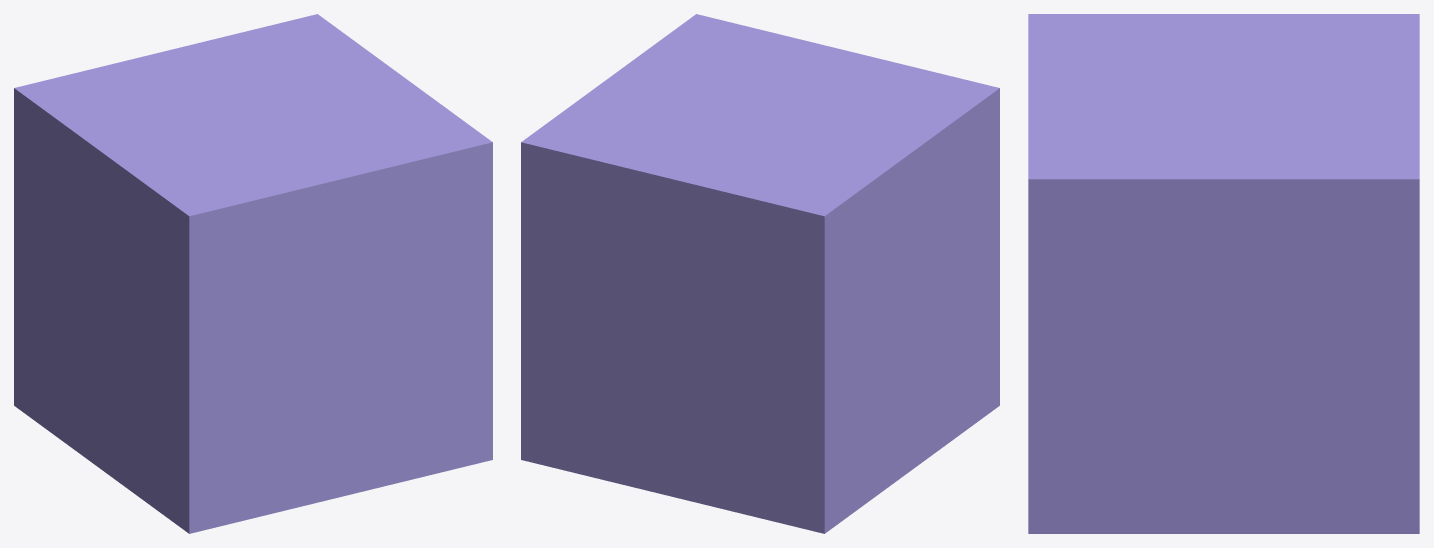
File: 126_ink_brick.glb
3 renders of one model, left to right at view 1: azimuth 30°, elevation 25°; view 2: azimuth 150°, elevation 25°; view 3: azimuth 270°, elevation 25°, orthographic. The views are drawn at different scales.
Visible parts, largest first — view 1: Core; view 2: Core; view 3: Core.
Boxes of the visible parts, x1=… form: Core: x1=14, y1=14, x2=492, y2=533; Core: x1=521, y1=14, x2=999, y2=533; Core: x1=1028, y1=14, x2=1419, y2=533.
Size of the model in its own units: 1 by 1 by 1.
